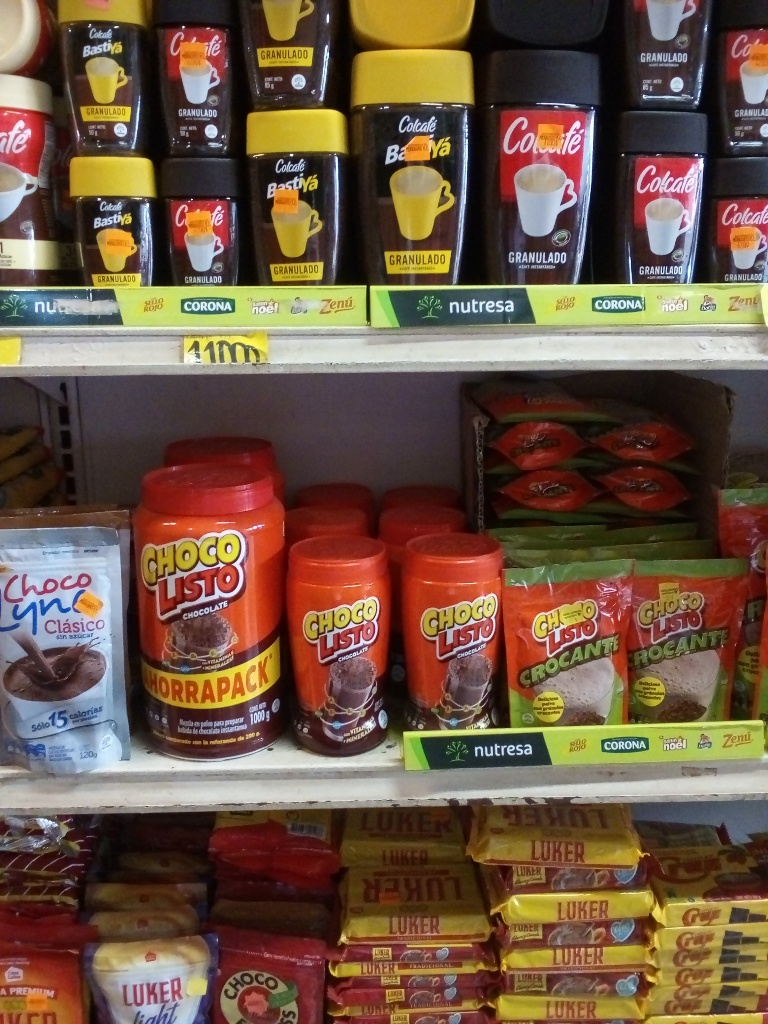COL0170102DYP10000: (500, 542, 626, 729)
COL0170103TRR00100: (139, 443, 289, 778)
COL0170103TRR30000: (289, 527, 388, 770)
